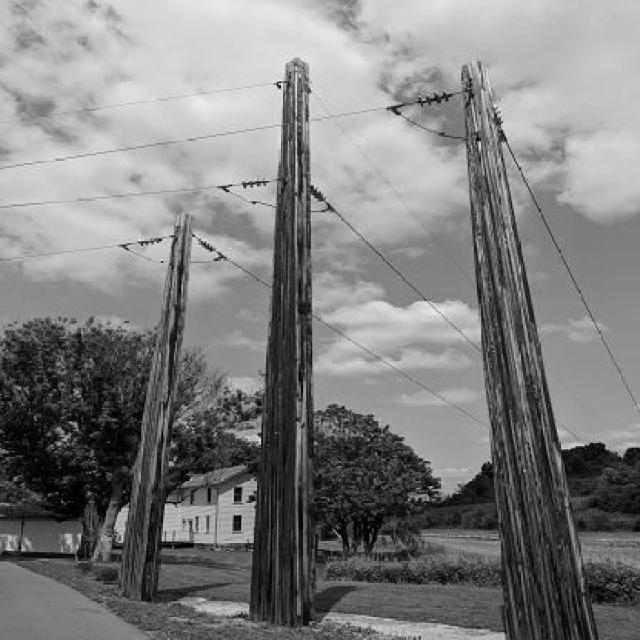Pole: (461, 62, 599, 640), (250, 59, 315, 626), (119, 214, 192, 599)
